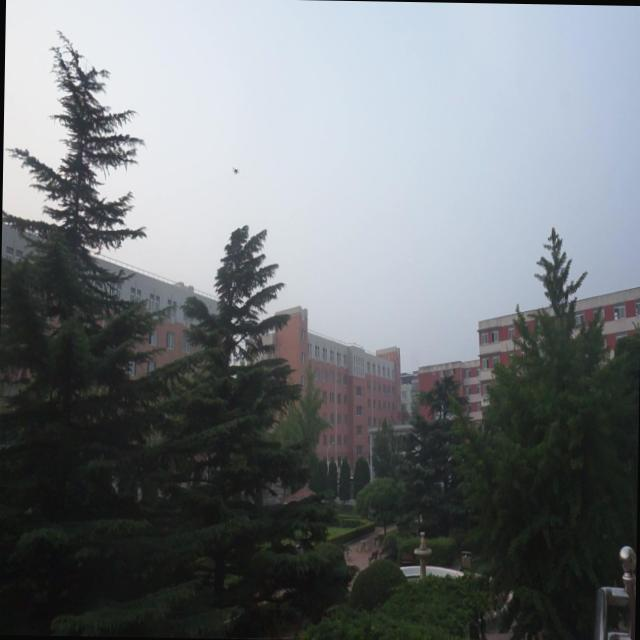drone: (228, 164, 240, 176)
